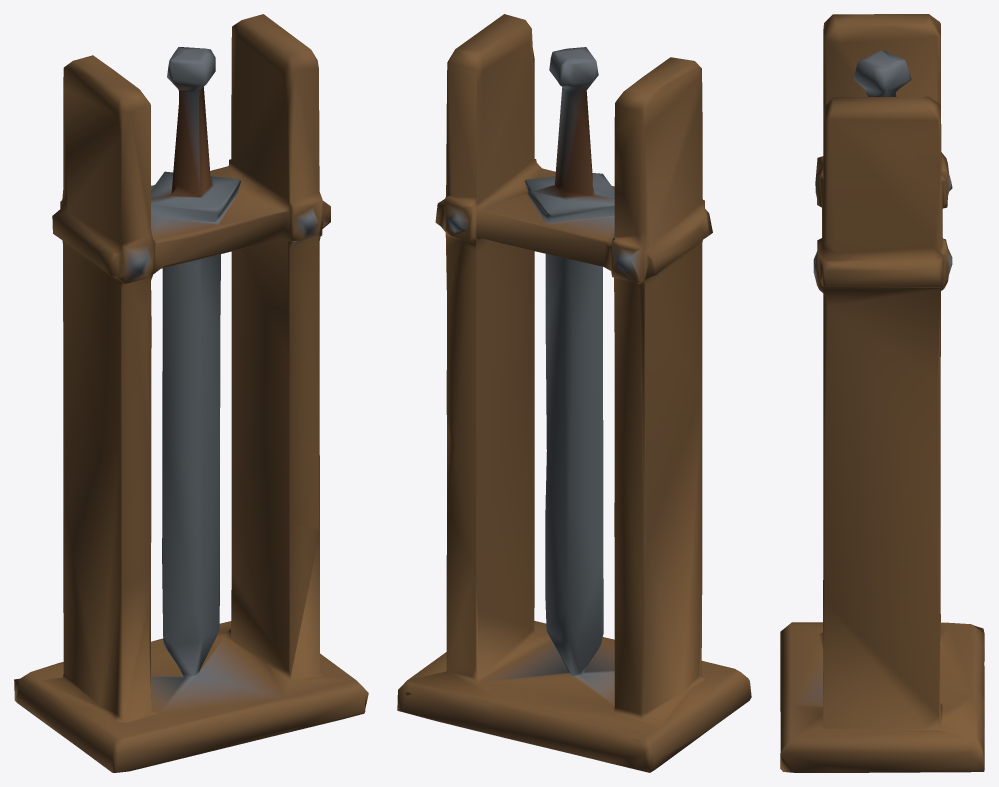
File: gen3d-sword-rack-lod1.glb
3 renders of one model, left to right at view 1: azimuth 30°, elevation 25°; view 2: azimuth 150°, elevation 25°; view 3: azimuth 270°, elevation 25°, orthographic.
Visible parts, largest first — view 1: part_0; view 2: part_0; view 3: part_0.
Part boxes in pixels (x1,y1,x2,y2): part_0: [14, 14, 368, 772]; part_0: [397, 14, 751, 772]; part_0: [780, 14, 984, 772].
Bounding box in the file's own units: 0.4088 × 1 × 0.2843.
